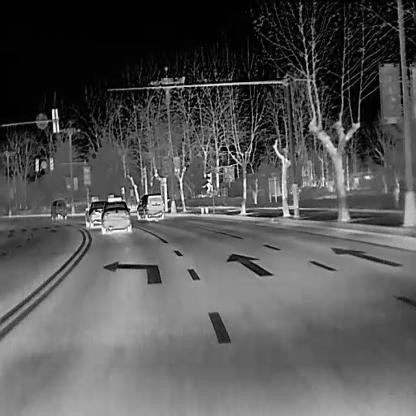car: (100, 196, 131, 233), (136, 192, 164, 220), (84, 198, 105, 228), (50, 198, 68, 218)
